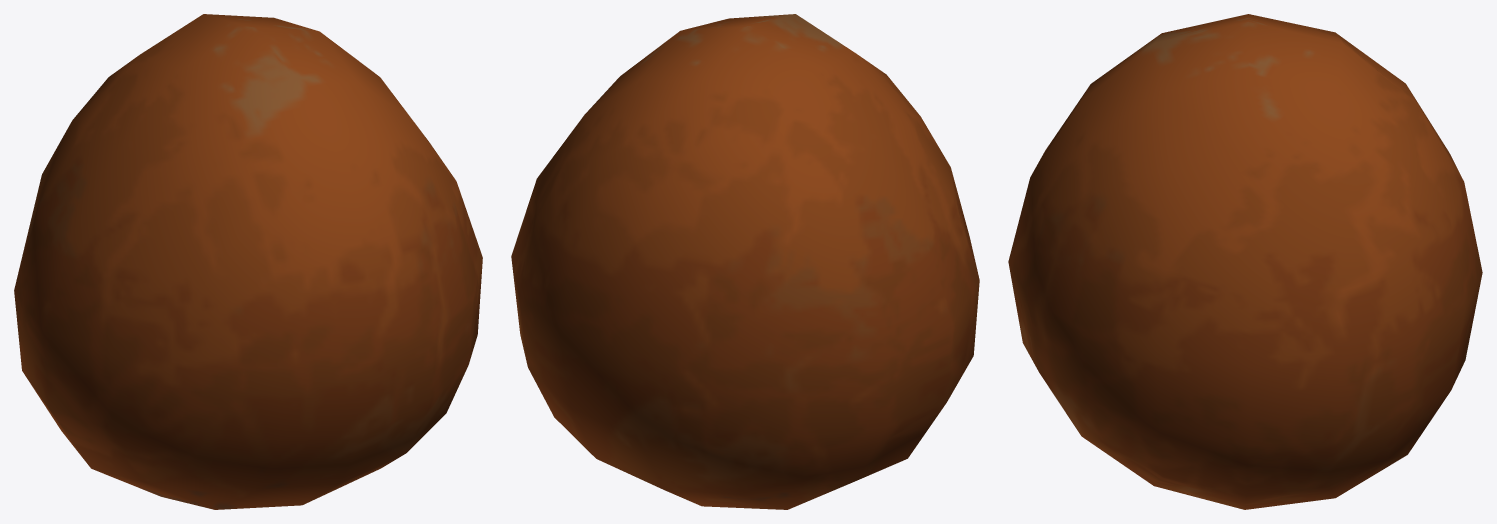
File: SM_AvocadoSeed.fbx
The picture shows the model from 3 angles, left to right: view 1: azimuth 30°, elevation 25°; view 2: azimuth 150°, elevation 25°; view 3: azimuth 270°, elevation 25°; orthographic projection.
Visible parts, largest first — view 1: SM_AvocadoSeed; view 2: SM_AvocadoSeed; view 3: SM_AvocadoSeed.
Boxes of the visible parts, box(x1,y1,x2,y2) form: SM_AvocadoSeed: box(14, 14, 482, 509); SM_AvocadoSeed: box(511, 14, 979, 509); SM_AvocadoSeed: box(1008, 14, 1482, 509).
Size of the model in its own units: 7.05 by 7.43 by 7.02.
